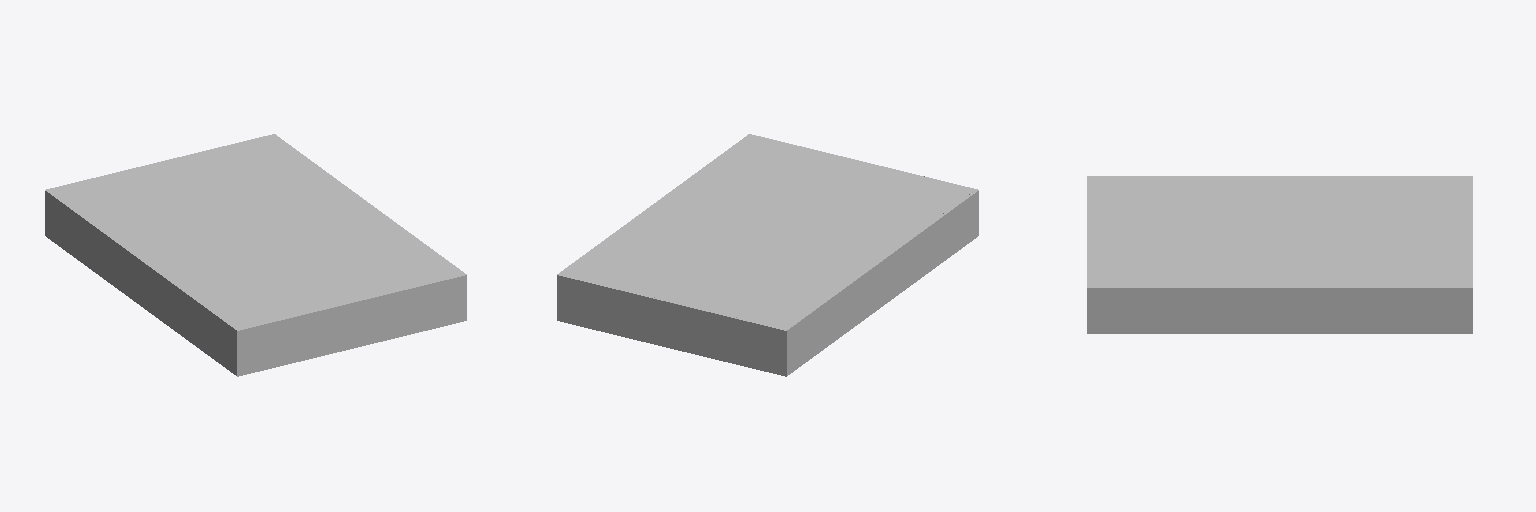
Rendered from Monte Alban 2.obj.
The picture shows the model from 3 angles: view 1: azimuth 30°, elevation 25°; view 2: azimuth 150°, elevation 25°; view 3: azimuth 270°, elevation 25°; orthographic projection.
Parts seen in each view (by area): view 1: Mesh21 Model; view 2: Mesh21 Model; view 3: Mesh21 Model.
Part boxes in pixels (x1,y1,x2,y2): Mesh21 Model: (45, 134, 466, 376); Mesh21 Model: (557, 134, 978, 376); Mesh21 Model: (1087, 176, 1472, 333).
Bounding box in the file's own units: 551 × 108 × 800.